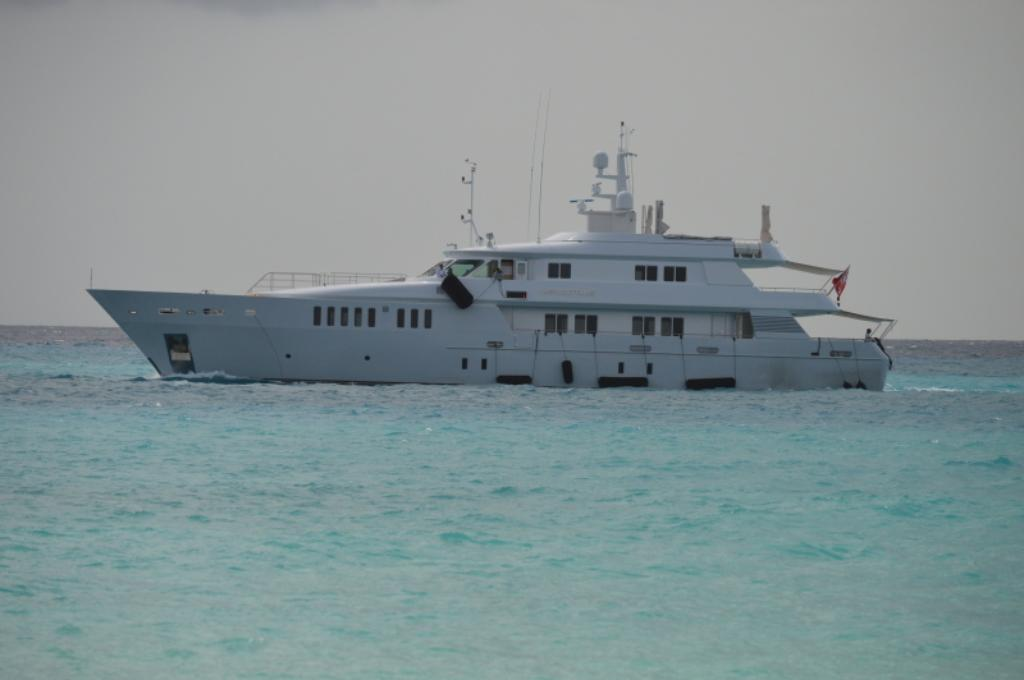PassengerShip: (82, 149, 898, 395)
